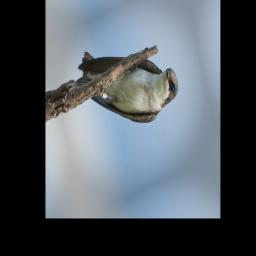Swallow: (70, 12, 184, 151)
